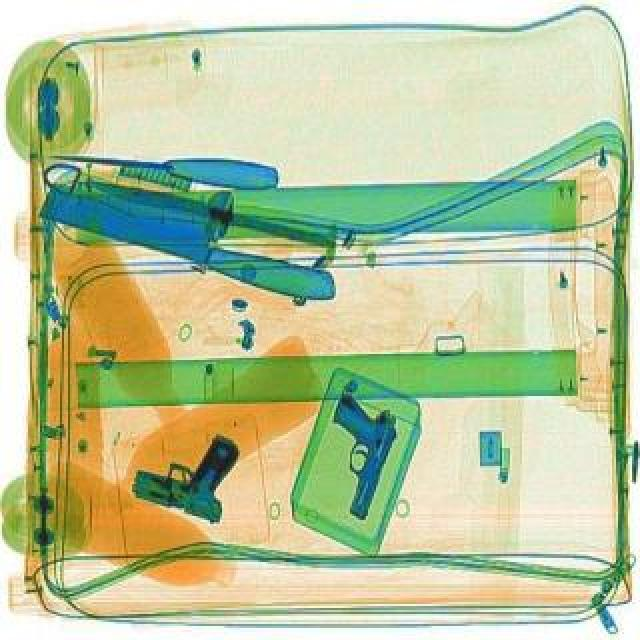gun: (124, 412, 250, 524), (302, 388, 406, 522)
knife: (32, 160, 350, 306), (46, 138, 278, 192)
